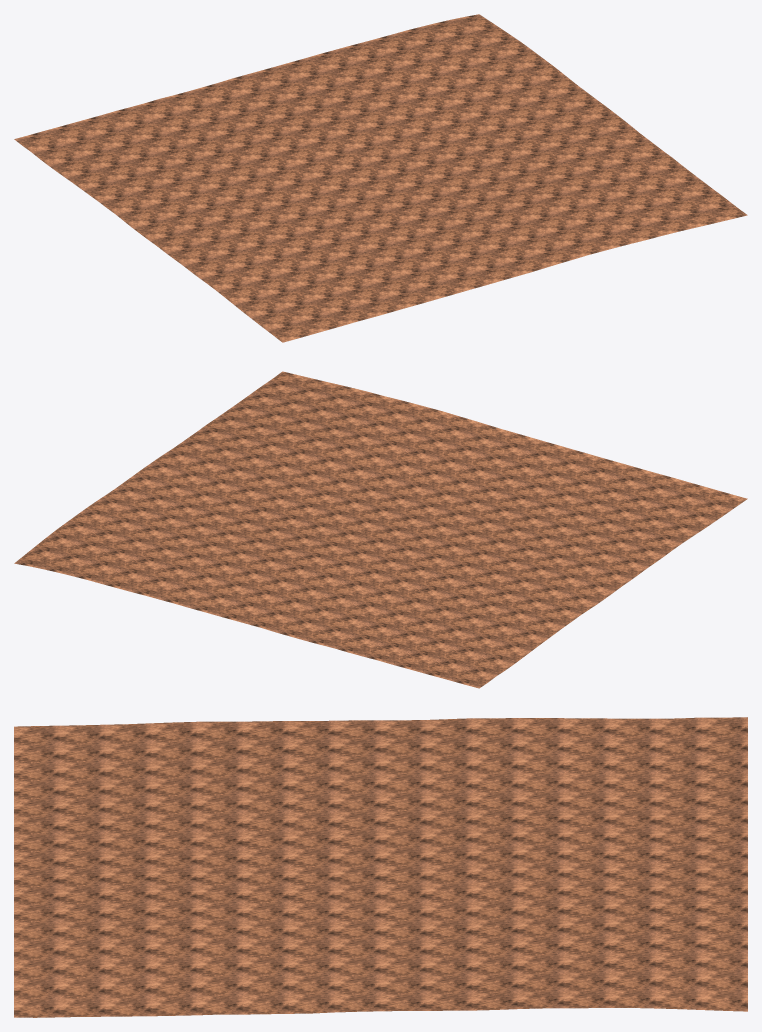
The model's file is terrain_10_12.dae.
The picture shows the model from 3 angles, top to bottom: view 1: azimuth 30°, elevation 25°; view 2: azimuth 150°, elevation 25°; view 3: azimuth 270°, elevation 25°; orthographic projection. The views are drawn at different scales.
Parts seen in each view (by area): view 1: terrain_10_12-node; view 2: terrain_10_12-node; view 3: terrain_10_12-node.
Boxes of the visible parts, x1,y1,x2,y2 form: terrain_10_12-node: (14, 14, 747, 342); terrain_10_12-node: (14, 371, 747, 688); terrain_10_12-node: (14, 717, 747, 1017).
Bounding box in the file's own units: 128 × 128 × 5.55.
Materials: 1 (1 with a texture image).
